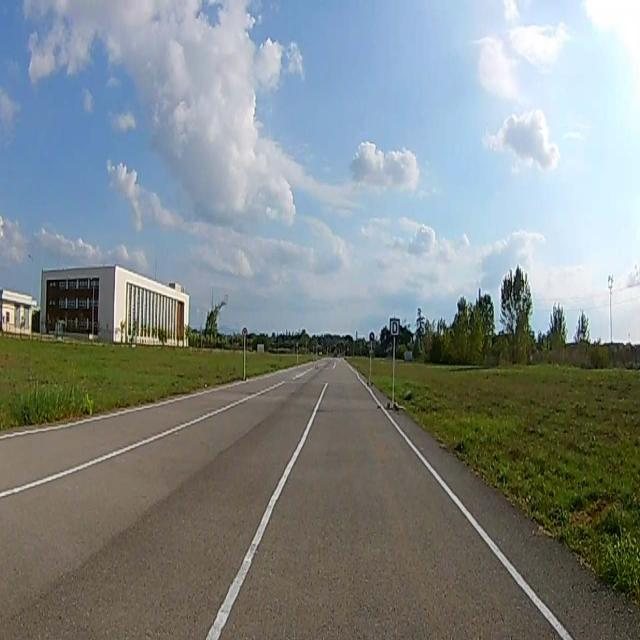durak: (390, 318, 400, 336)
